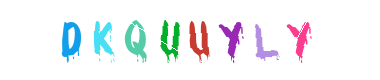D: (30, 0, 110, 80)
K: (80, 0, 160, 80)
L: (205, 0, 285, 80)
Q: (130, 0, 210, 80)
U: (151, 0, 231, 80), (159, 0, 239, 80)
Y: (192, 0, 272, 80), (250, 0, 330, 80)
